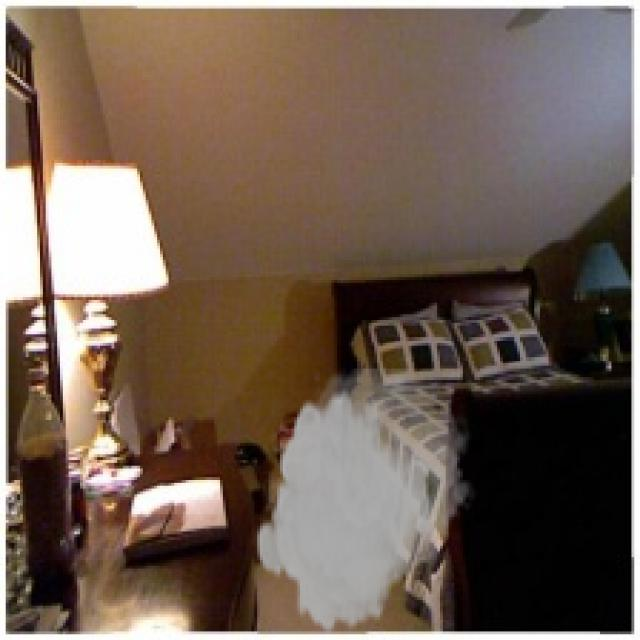smoke: (254, 369, 477, 637)
